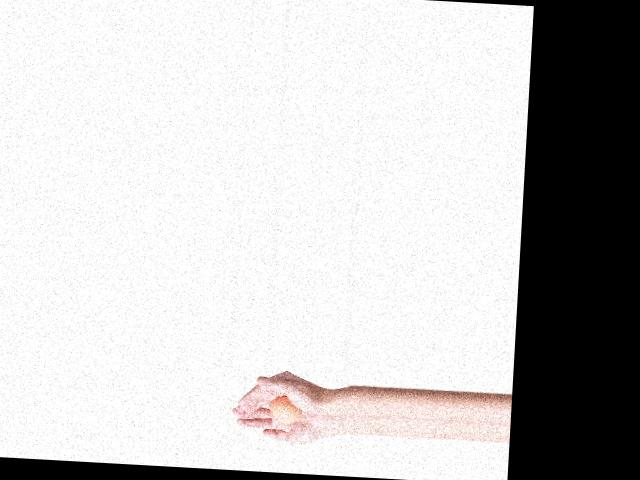egg: (269, 395, 300, 422)
